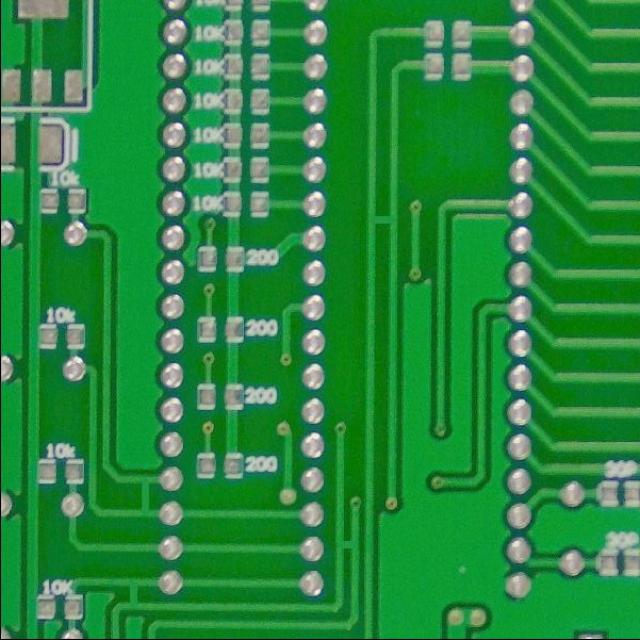short: (130, 471, 160, 527), (359, 204, 406, 237), (115, 575, 144, 616), (330, 530, 361, 562)
